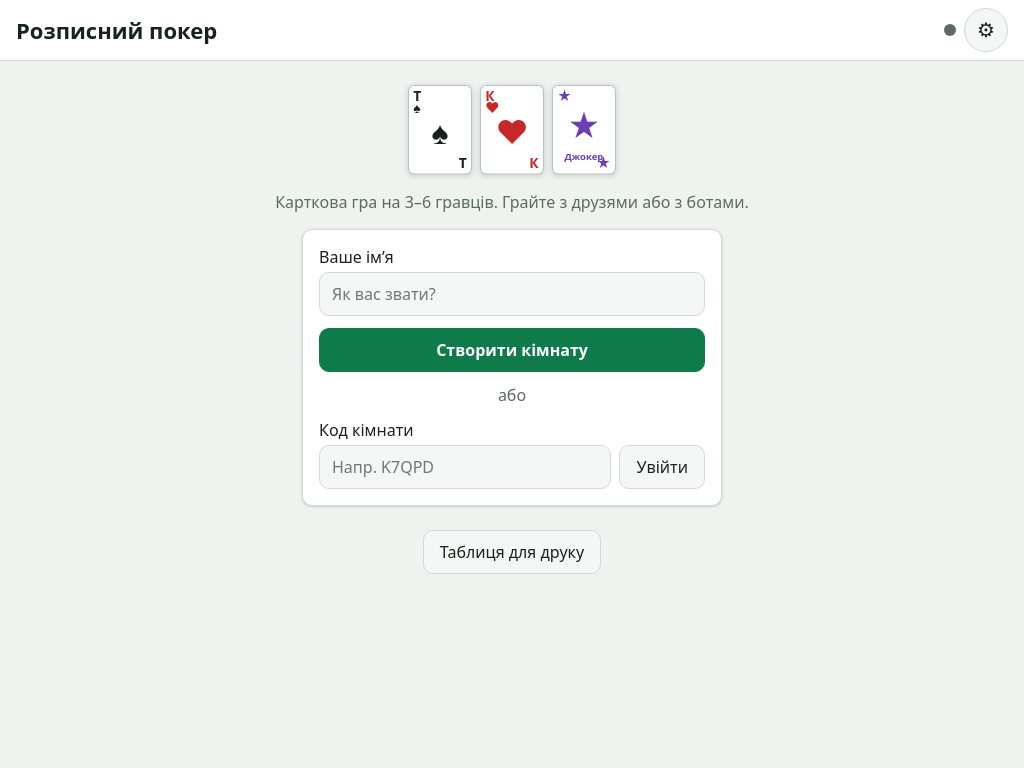
Test: лобі › входить у кімнату за кодом (регістр не важливий)
Type "Петро" into the field labelled "Ваше імʼя".
click(512, 294); type("Петро")  # box [319, 272, 705, 316]
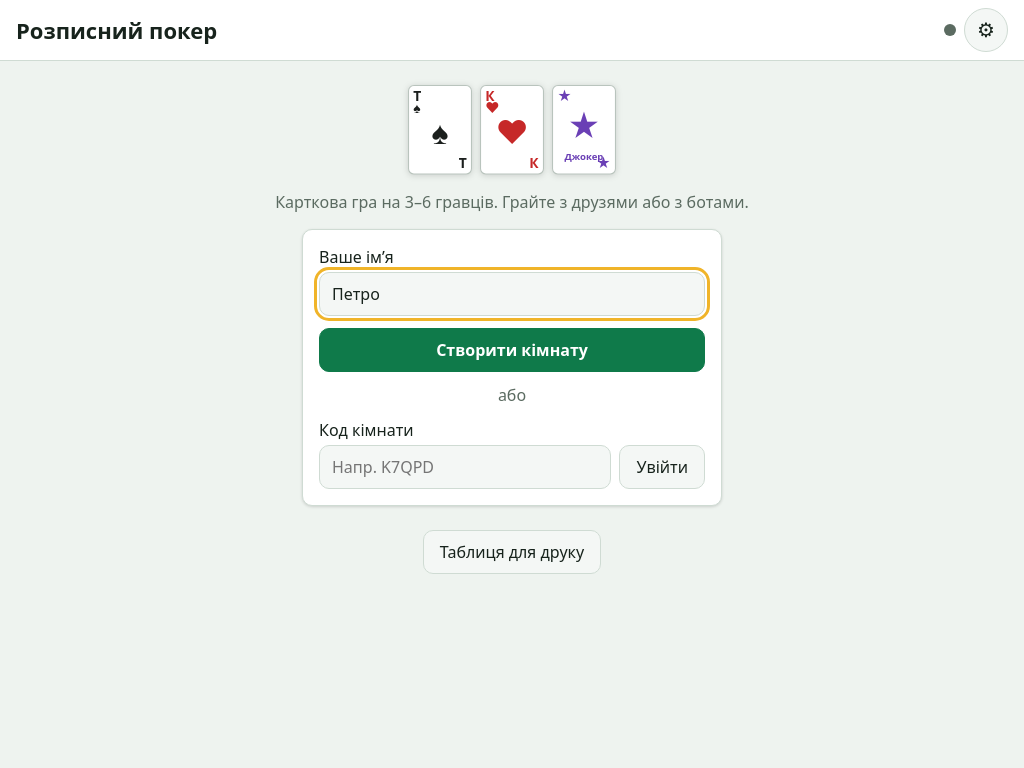
Type "abcde" into the field labelled "Код кімнати".
click(465, 467); type("abcde")  # box [319, 445, 612, 489]
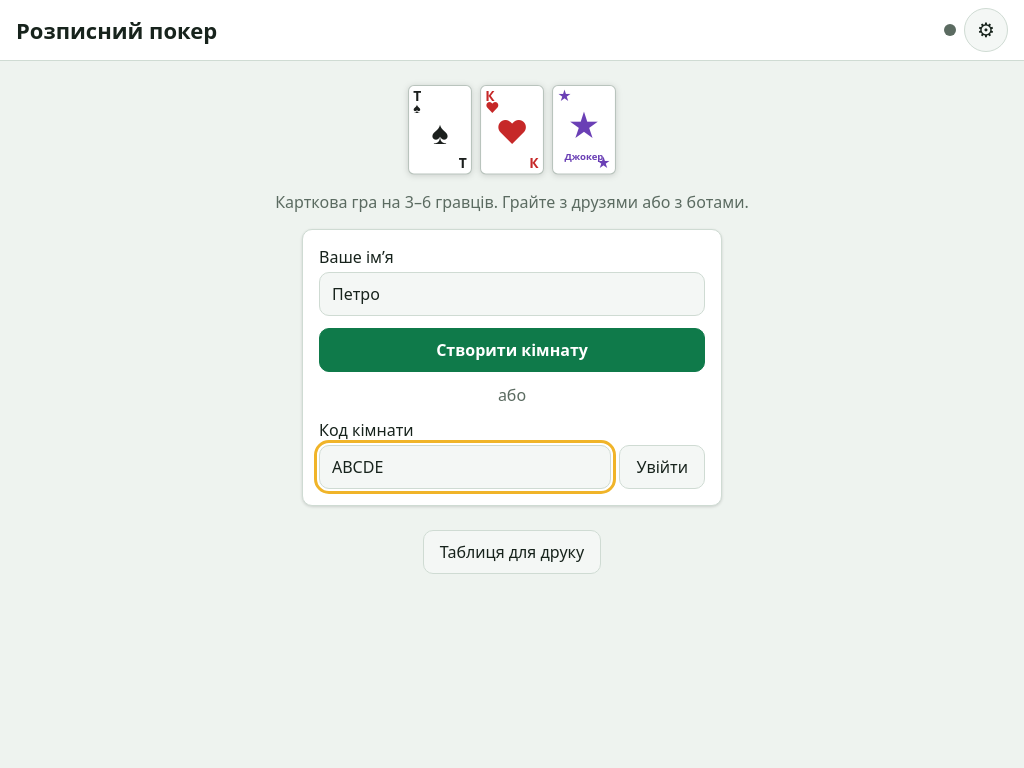
Click the button "Увійти".
click(662, 467)  # box [620, 445, 705, 489]
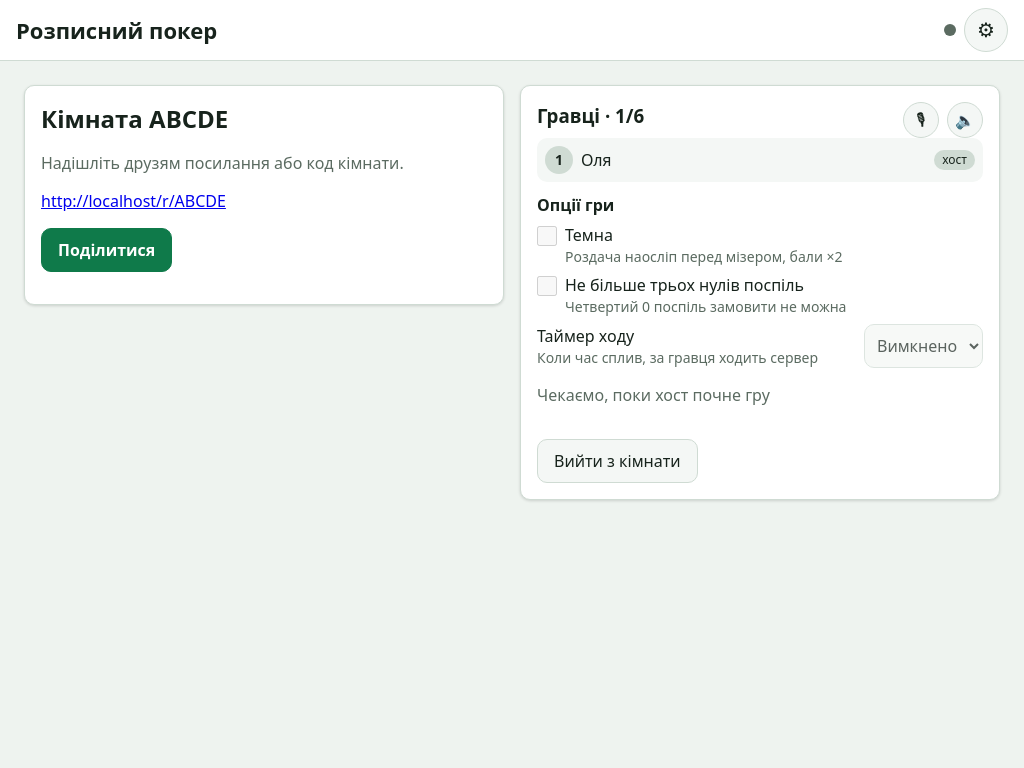
Result: the heading "Кімната ABCDE" is shown at [41, 102, 228, 135]
